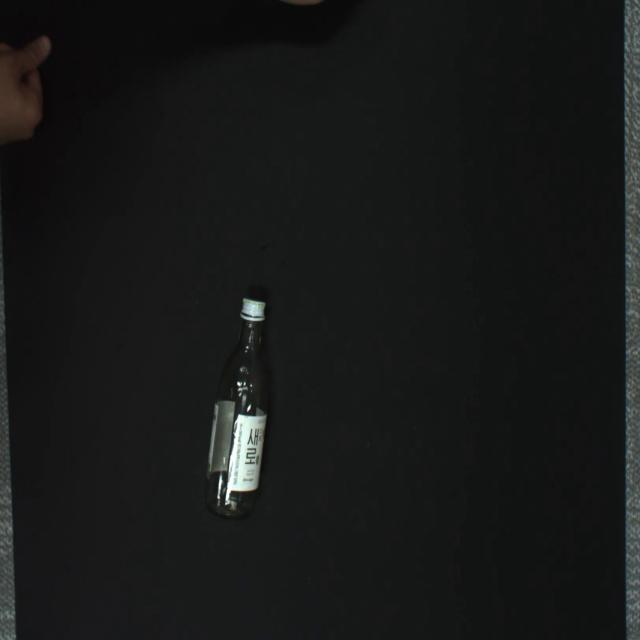soju-bottle: (203, 296, 270, 521)
